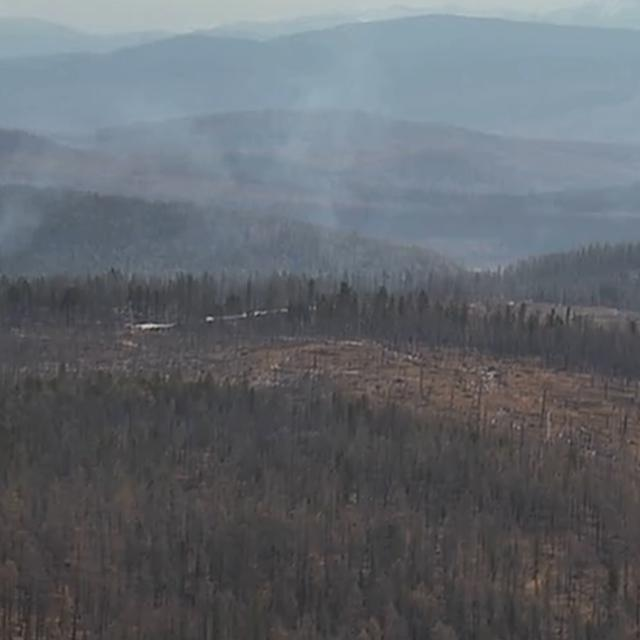Smoke: (1, 204, 45, 286)
